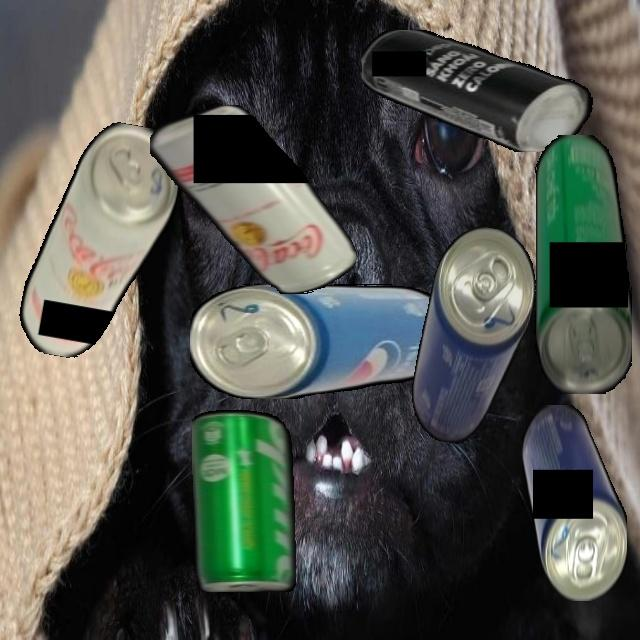debris: (14, 112, 188, 371), (149, 105, 356, 294), (404, 220, 545, 452), (190, 283, 453, 399), (362, 29, 599, 152), (534, 134, 632, 394), (521, 404, 627, 601), (192, 409, 296, 592)
